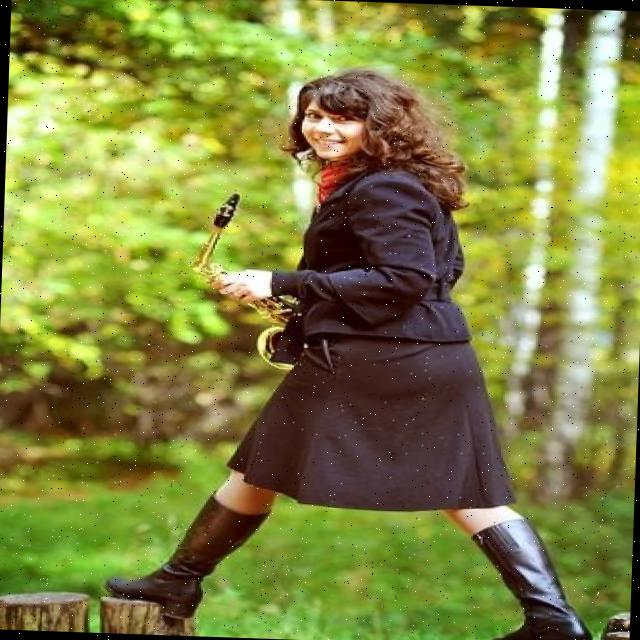saxophone: (177, 182, 354, 371)
